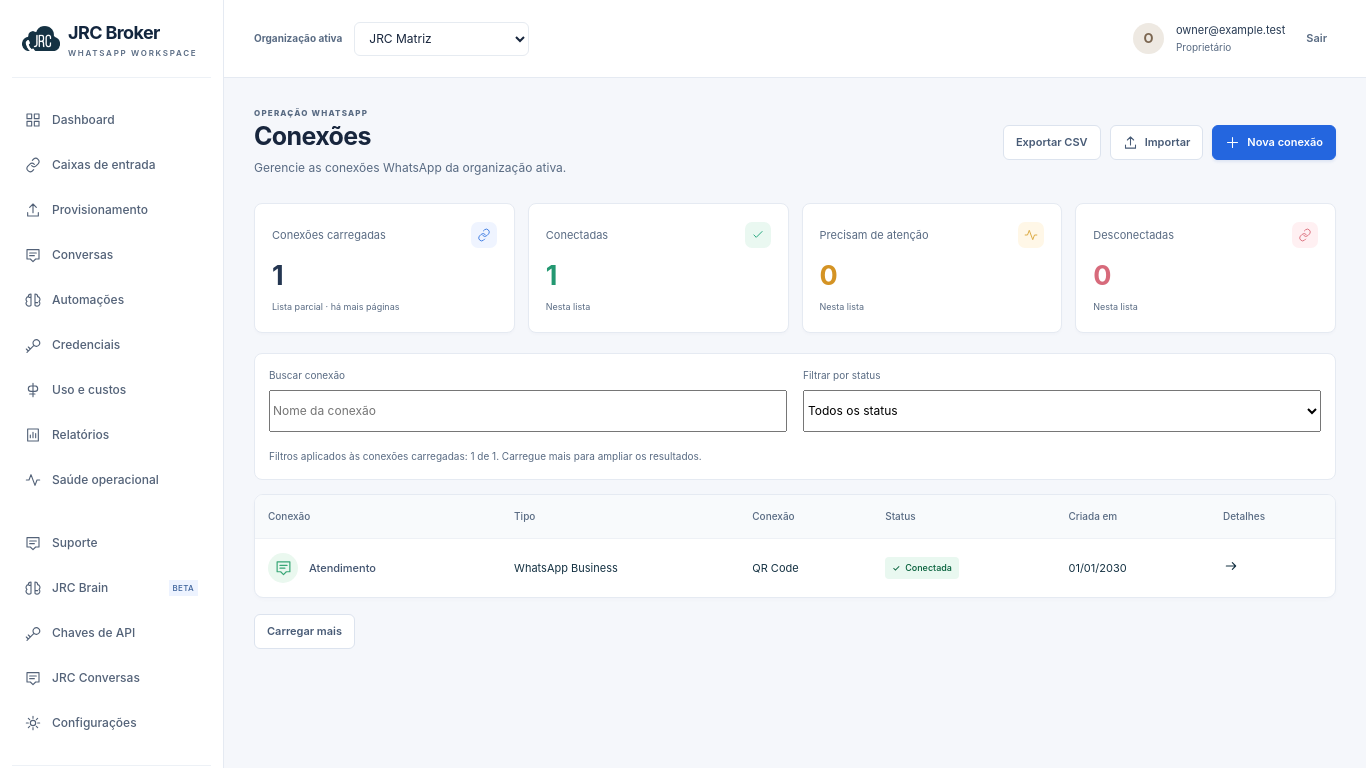
it: ConnectionsPage › lista, pagina sem duplicar e mantém o cursor opaco
Expected: the link "Atendimento" is shown, [268,553,376,583]
Click the button "Carregar mais": (304, 631) [254,614,355,649]
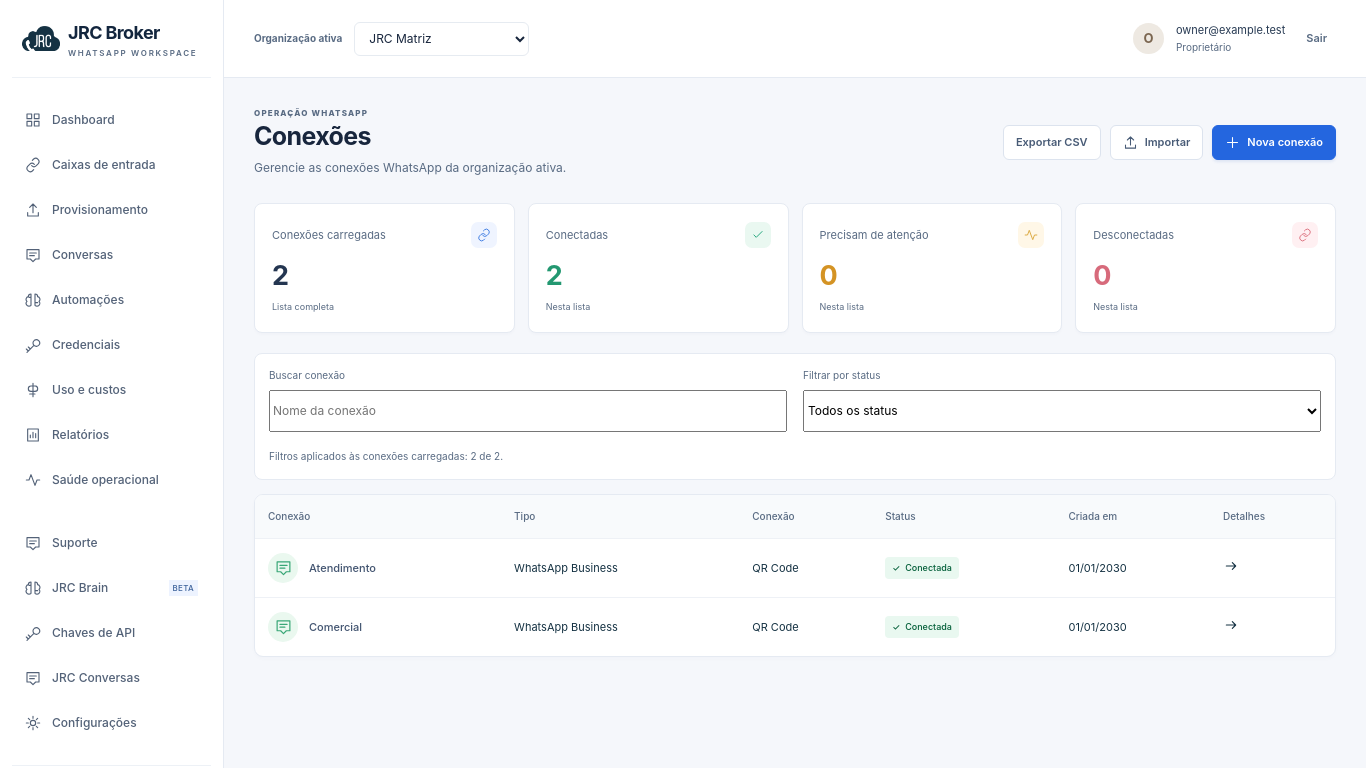
Expected: the link "Comercial" is shown, [268,612,362,642]
